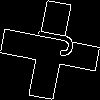J: (25, 25, 76, 59)
